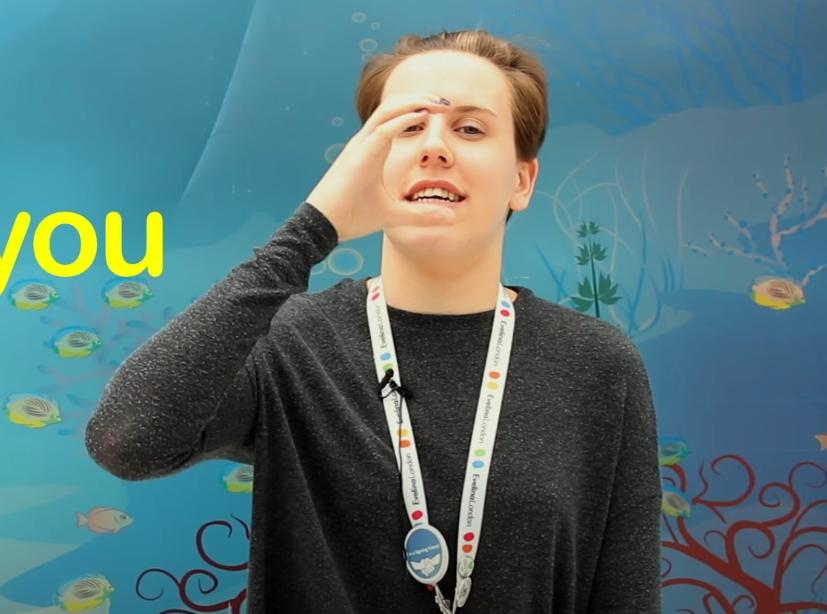drink: (306, 90, 468, 259)
